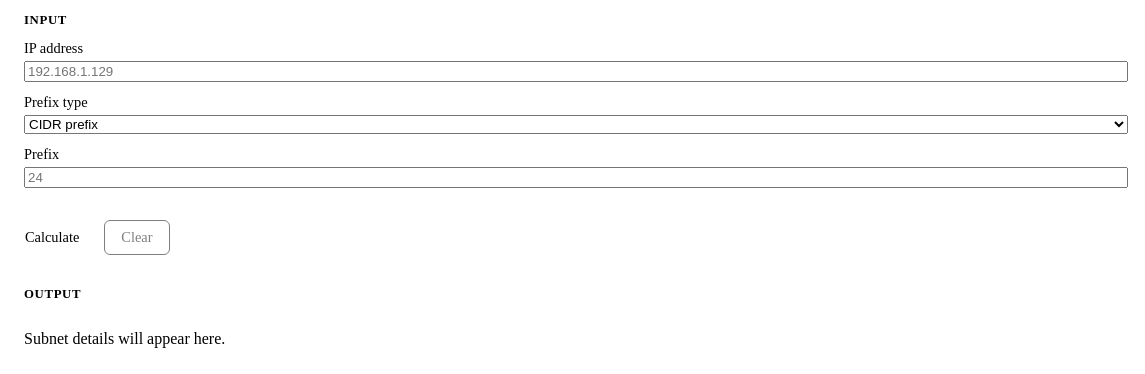
Test case: SubnetCalculatorTool › shows an error for empty input
Click the button "Calculate": (52, 238) left=8, top=220, right=96, bottom=255
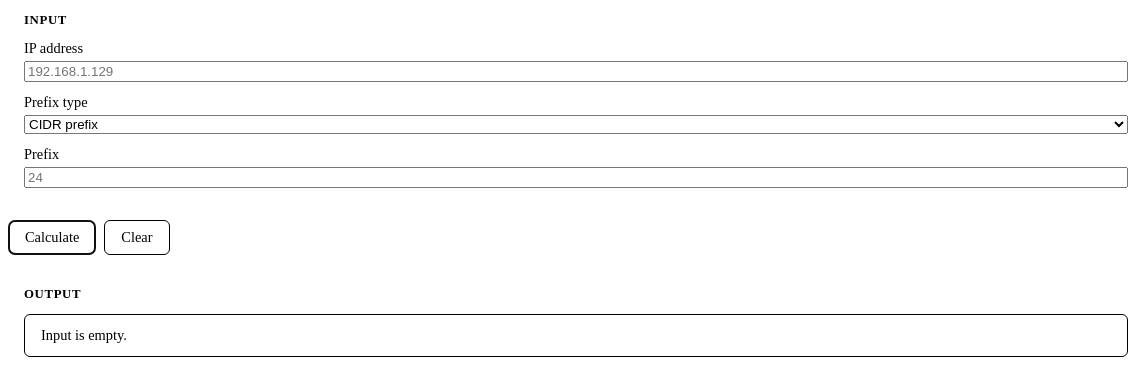
Now the message shows "Input is empty", box left=41, top=327, right=127, bottom=343
